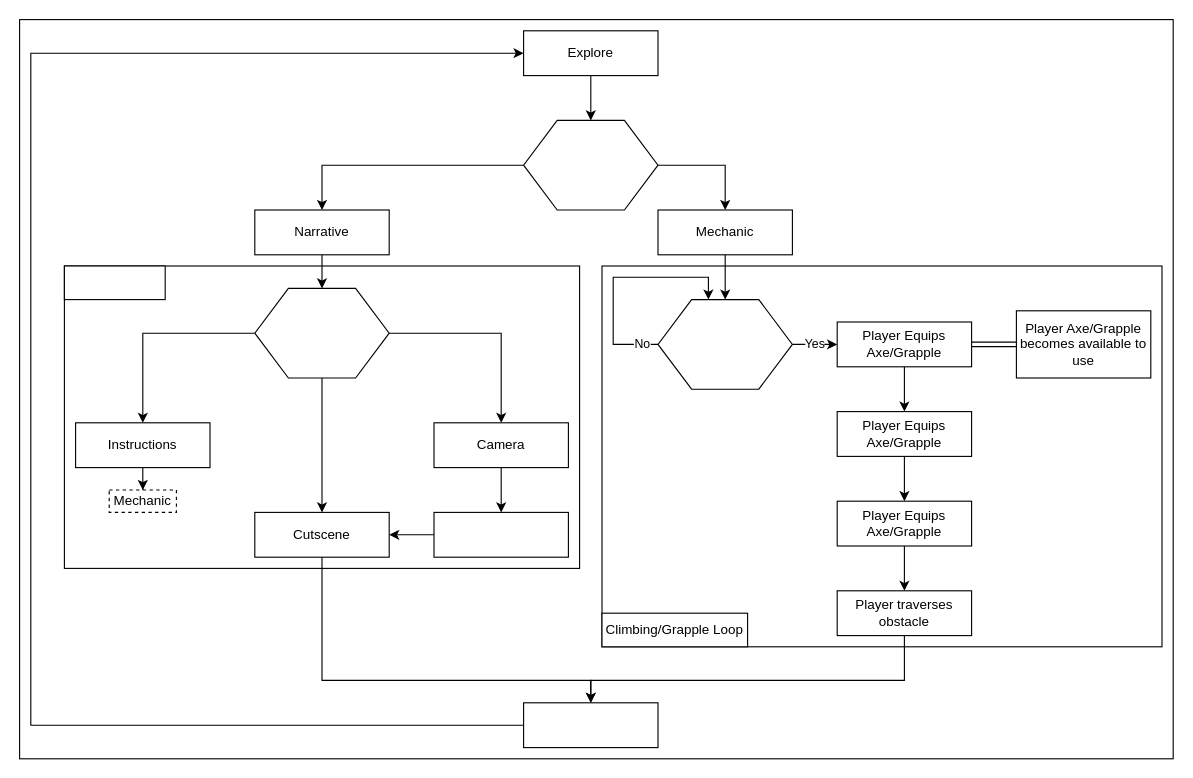
This 1193x778 diagram has some shape labels left out. Each missing label, with the box of its shape:
Is the narrative instructions, Cutscene or Camera?: (254, 287, 389, 378)
Is the player within range of a narrative or Mechanic Event?: (522, 119, 658, 210)
Is the player within range of an interactable object: (657, 298, 792, 389)
Narrative Loop: (63, 265, 165, 300)
Next Level: (522, 702, 658, 748)
Take Photo: (433, 511, 568, 557)
